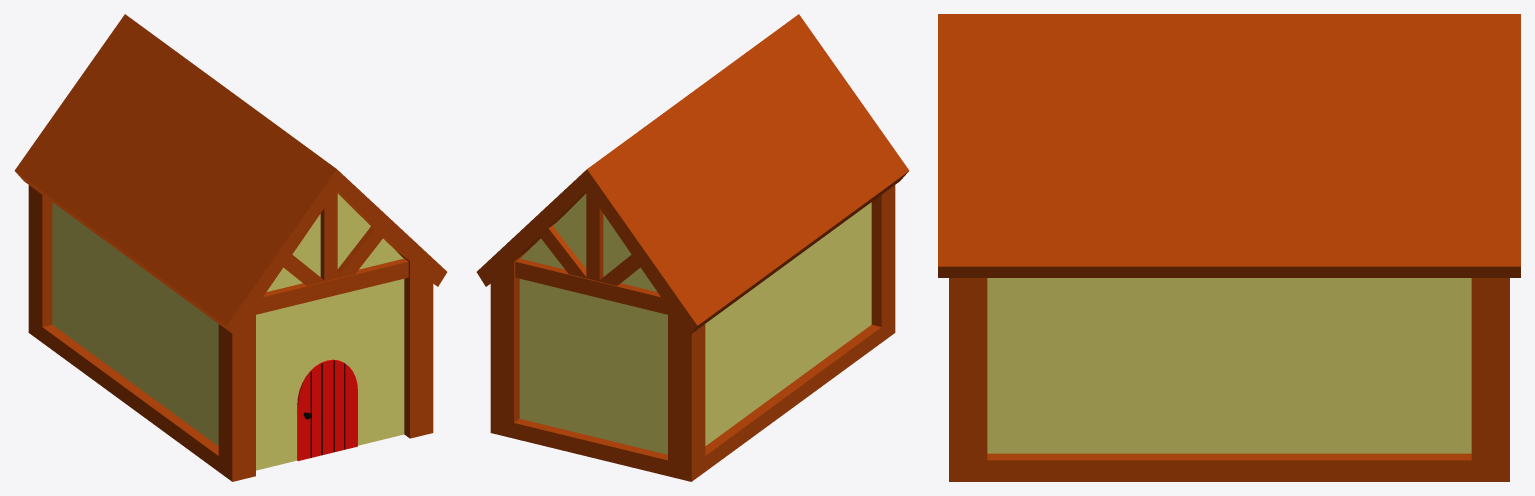
The model's file is Farm_House_2.fbx.
3 views of the same model, side by side, from view 1: azimuth 30°, elevation 25°; view 2: azimuth 150°, elevation 25°; view 3: azimuth 270°, elevation 25° (orthographic). The views are drawn at different scales.
Visible parts, largest first — view 1: Farm_House_2; view 2: Farm_House_2; view 3: Farm_House_2.
Part boxes in pixels (x1=…): Farm_House_2: x1=14, y1=14, x2=447, y2=481; Farm_House_2: x1=476, y1=14, x2=909, y2=481; Farm_House_2: x1=938, y1=14, x2=1520, y2=481.
Bounding box in the file's own units: 4.77 × 7.92 × 6.
